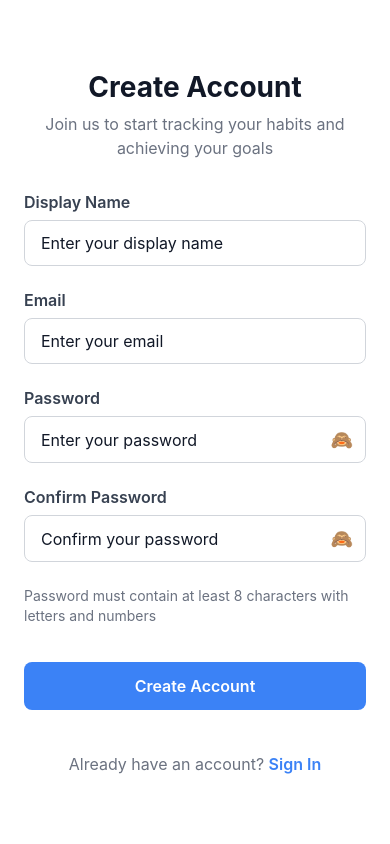
Test: SignUpScreen › Form Validation › shows error when email format is invalid
Type "invalid-email" into the field with placeholder "Enter your email" at [195, 341], box [24,318,366,364]
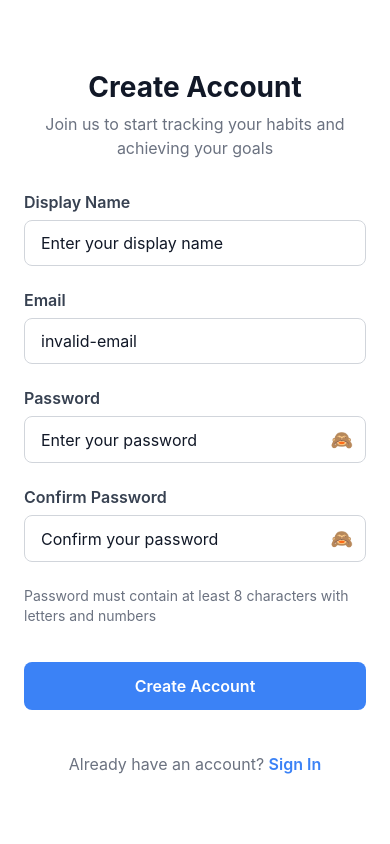
Click the element with test id "signup-button" at [195, 686], box [24,662,366,710]
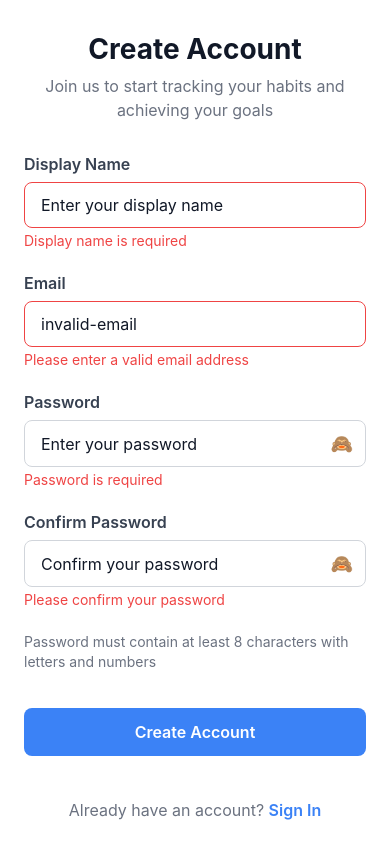
Expected: the text "Please enter a valid email address" is shown, [24,351,249,368]
